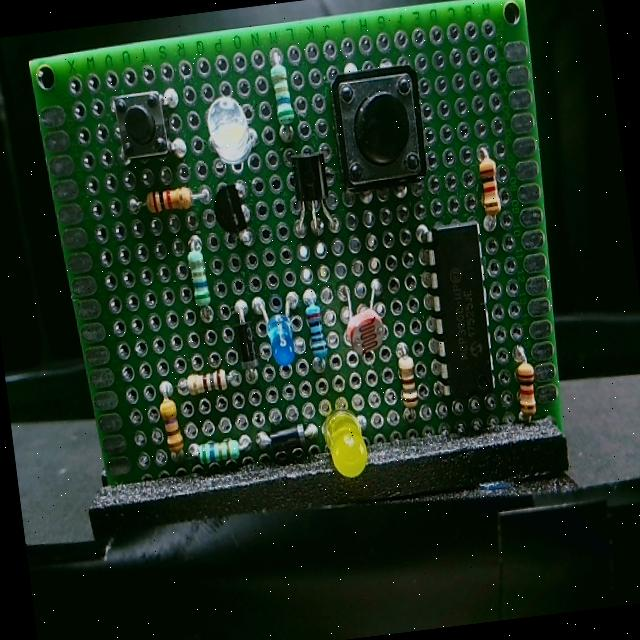IC: (414, 199, 499, 407)
cds: (339, 294, 386, 356)
diode: (230, 298, 264, 378), (261, 422, 310, 463)
led: (312, 402, 379, 486), (199, 90, 260, 174), (254, 289, 304, 372)
resistor: (302, 282, 341, 382), (132, 170, 202, 216), (383, 342, 427, 412), (268, 63, 304, 142), (505, 356, 542, 431), (174, 230, 210, 304), (145, 392, 185, 458), (172, 358, 237, 398), (186, 432, 249, 473), (474, 140, 504, 226)
switch: (328, 65, 432, 191), (101, 79, 184, 168)
transistor: (283, 144, 350, 246), (210, 178, 258, 256)
